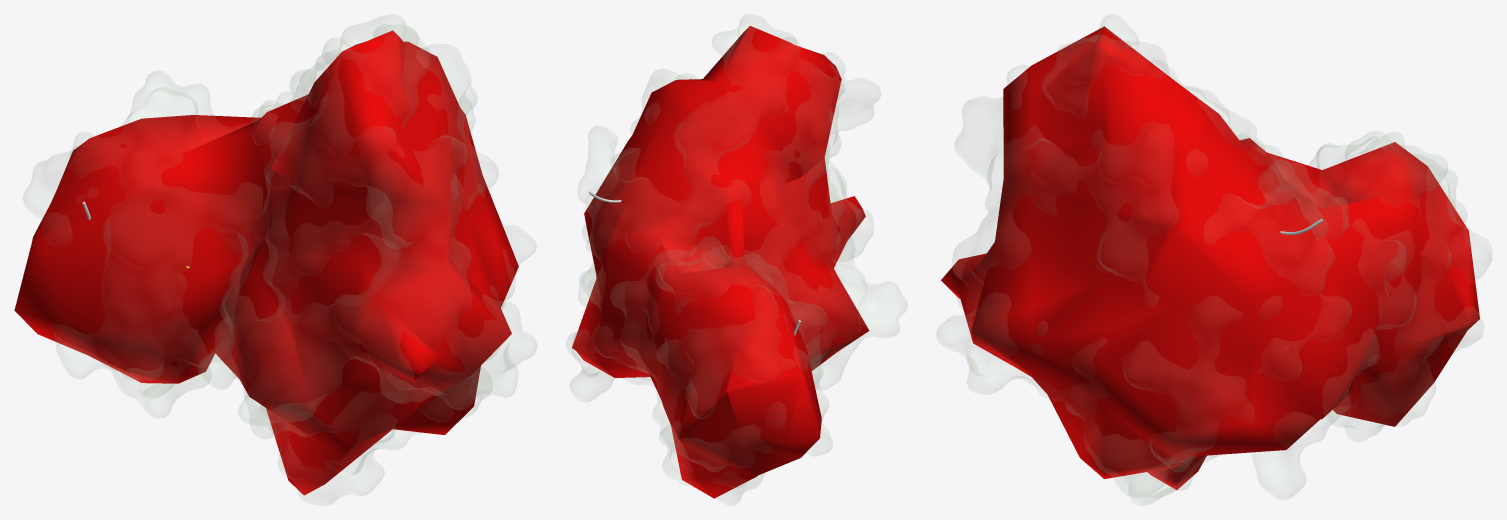
The model's file is sky1_mono_merge_armtest.fbx.
The picture shows the model from 3 angles, left to right: view 1: azimuth 30°, elevation 25°; view 2: azimuth 150°, elevation 25°; view 3: azimuth 270°, elevation 25°; orthographic projection. The views are drawn at different scales.
Parts seen in each view (by area): view 1: CoarseMS_1Q8Z_monomer, MSMS-MOL1Q8Z_monomer; view 2: CoarseMS_1Q8Z_monomer, MSMS-MOL1Q8Z_monomer; view 3: CoarseMS_1Q8Z_monomer, MSMS-MOL1Q8Z_monomer.
Part boxes in pixels (x1=…): CoarseMS_1Q8Z_monomer: x1=14, y1=30, x2=518, y2=495; MSMS-MOL1Q8Z_monomer: x1=23, y1=14, x2=536, y2=505; CoarseMS_1Q8Z_monomer: x1=572, y1=26, x2=869, y2=498; MSMS-MOL1Q8Z_monomer: x1=566, y1=14, x2=907, y2=505; CoarseMS_1Q8Z_monomer: x1=941, y1=26, x2=1479, y2=489; MSMS-MOL1Q8Z_monomer: x1=937, y1=14, x2=1491, y2=505.
Size of the model in its own units: 54.24 by 65.17 by 67.86.
